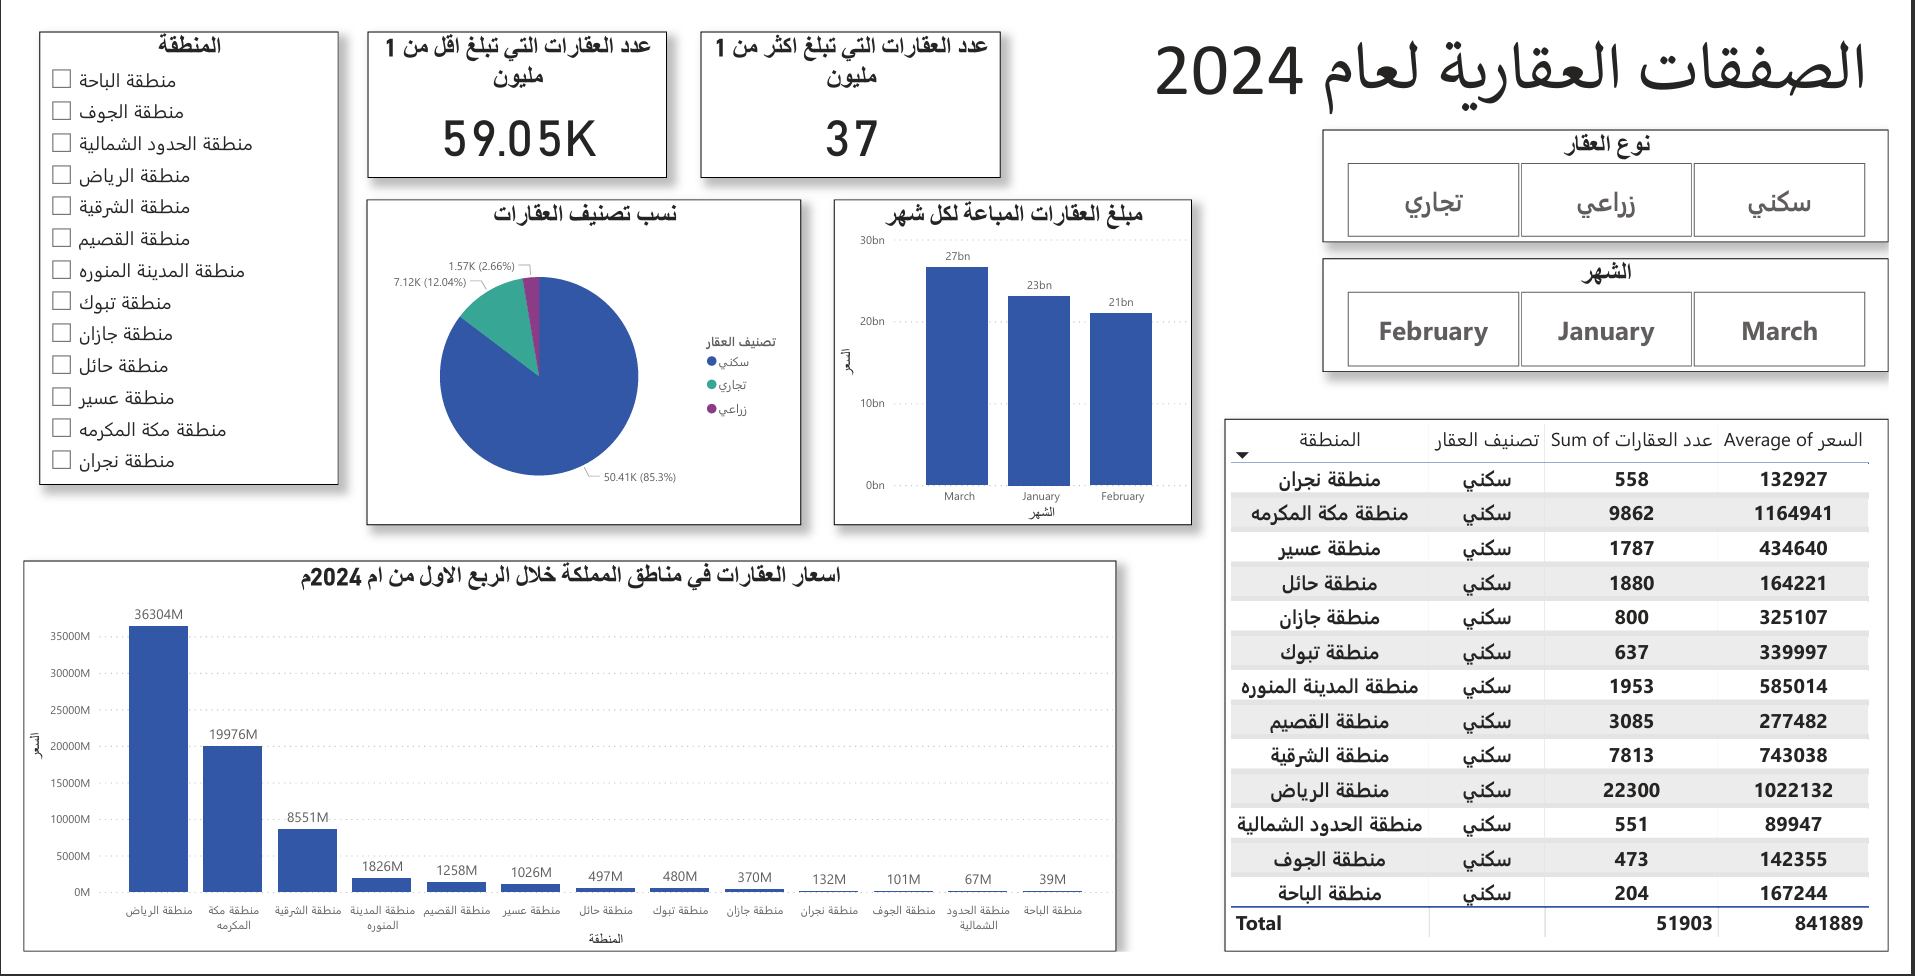

The dashboard page shown, as its layout file describes it:
{"tool":"powerbi","page":{"name":"Page 1","canvas":[2000,1000],"ordinal":0},"visuals":[{"type":"textbox","box":[1187.4,0,813.4,139.8],"z":0},{"type":"card","title":"عدد العقارات التي تبلغ اقل من 1 مليون","fields":{"Values":["CountNonNull(الجدول1.عدد العقارات)"]},"box":[369,14.3,321.4,157.1],"z":1000},{"type":"card","title":"عدد العقارات التي تبلغ اكثر من 1 مليون","fields":{"Values":["CountNonNull(الجدول1.عدد العقارات)"]},"box":[726.2,14.3,321.4,157.1],"z":2000},{"type":"slicer","title":"المنطقة","fields":{"Values":["الجدول1.المنطقة"]},"box":[16.7,14.3,321.4,485.7],"z":3000},{"type":"slicer","title":"نوع العقار","fields":{"Values":["الجدول1.تصنيف العقار"]},"box":[1392.9,119,607.1,121.4],"z":4000},{"type":"slicer","title":"الشهر","fields":{"Values":["الجدول1.الشهر"]},"box":[1392.9,257.1,607.1,121.4],"z":5000},{"type":"tableEx","fields":{"Values":["الجدول1.المنطقة","الجدول1.تصنيف العقار","Sum(الجدول1.عدد العقارات)","Avg(الجدول1.السعر)"]},"box":[1288.1,428.6,711.9,571.4],"z":6000},{"type":"clusteredColumnChart","title":"اسعار العقارات في مناطق المملكة خلال الربع الاول من ام 2024م","fields":{"Category":["الجدول1.المنطقة"],"Y":["Sum(الجدول1.السعر)"]},"box":[0,580.9,1172.3,419.1],"z":7000},{"type":"pieChart","title":"نسب تصنيف العقارات ","fields":{"Category":["الجدول1.تصنيف العقار"],"Y":["CountNonNull(الجدول1.العدد)"]},"box":[368.1,193.6,466,348.9],"z":8000},{"type":"columnChart","title":"مبلغ العقارات المباعة لكل شهر","fields":{"Y":["Sum(الجدول1.السعر)"],"Category":["الجدول1.الشهر"]},"box":[868.8,193.8,383.8,348.8],"z":9000}]}

Visuals, with their boxes in screenshot pixels (x1, y1, x2, y2), scaled from the page's 2000x1000 canvas onto the 1915x976 screenshot:
textbox: (x1=1137, y1=0, x2=1914, y2=136)
"عدد العقارات التي تبلغ اقل من 1 مليون" card: (x1=353, y1=14, x2=661, y2=167)
"عدد العقارات التي تبلغ اكثر من 1 مليون" card: (x1=695, y1=14, x2=1003, y2=167)
"المنطقة" slicer: (x1=16, y1=14, x2=324, y2=488)
"نوع العقار" slicer: (x1=1334, y1=116, x2=1914, y2=235)
"الشهر" slicer: (x1=1334, y1=251, x2=1914, y2=369)
tableEx - الجدول1.المنطقة x الجدول1.تصنيف العقار: (x1=1233, y1=418, x2=1914, y2=975)
"اسعار العقارات في مناطق المملكة خلال الربع الاول من ام 2024م" clusteredColumnChart: (x1=0, y1=567, x2=1122, y2=975)
"نسب تصنيف العقارات " pieChart: (x1=352, y1=189, x2=799, y2=529)
"مبلغ العقارات المباعة لكل شهر" columnChart: (x1=832, y1=189, x2=1199, y2=530)
